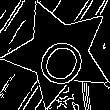O_NE: (27, 20, 92, 87)
